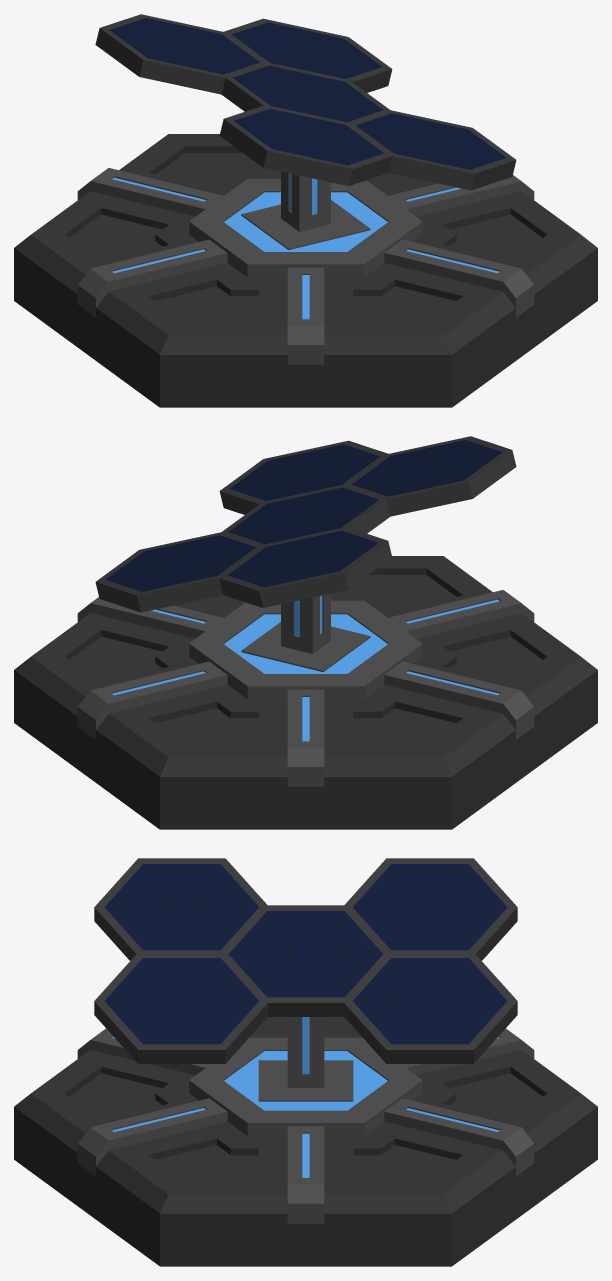
The model's file is SolarPanel_TD_4.fbx.
3 renders of one model, top to bottom at view 1: azimuth 30°, elevation 25°; view 2: azimuth 150°, elevation 25°; view 3: azimuth 270°, elevation 25°, orthographic.
Parts seen in each view (by area): view 1: Cylinder.006, Cylinder.009; view 2: Cylinder.006, Cylinder.009; view 3: Cylinder.006, Cylinder.009.
Boxes of the visible parts, left/top/right/bottom form: Cylinder.006: left=14, top=134, right=597, bottom=407; Cylinder.009: left=95, top=14, right=516, bottom=190; Cylinder.006: left=14, top=556, right=597, bottom=829; Cylinder.009: left=95, top=436, right=516, bottom=612; Cylinder.006: left=14, top=1017, right=597, bottom=1266; Cylinder.009: left=94, top=858, right=517, bottom=1063.
Size of the model in its own units: 693 by 365 by 800.
